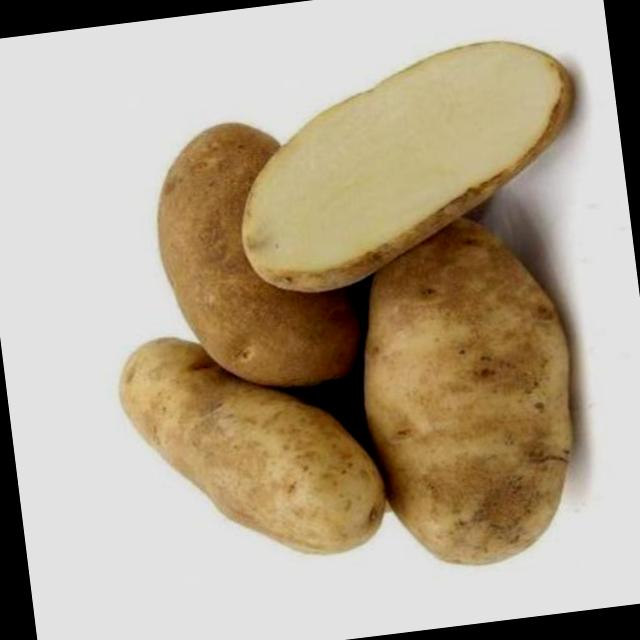potato: (337, 197, 596, 576), (103, 311, 390, 579), (137, 98, 370, 400)
